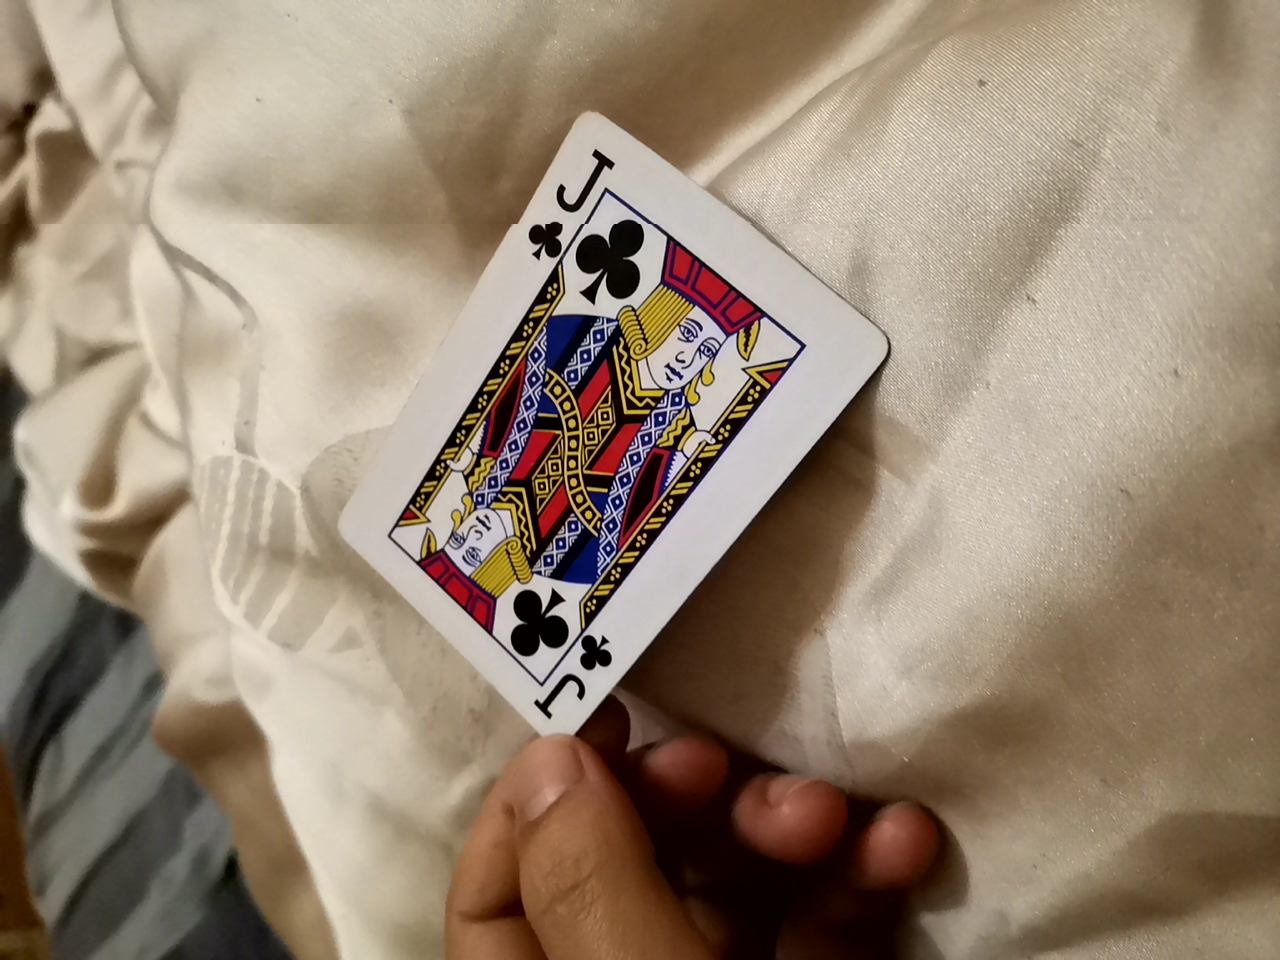mh j: (347, 134, 873, 783)
